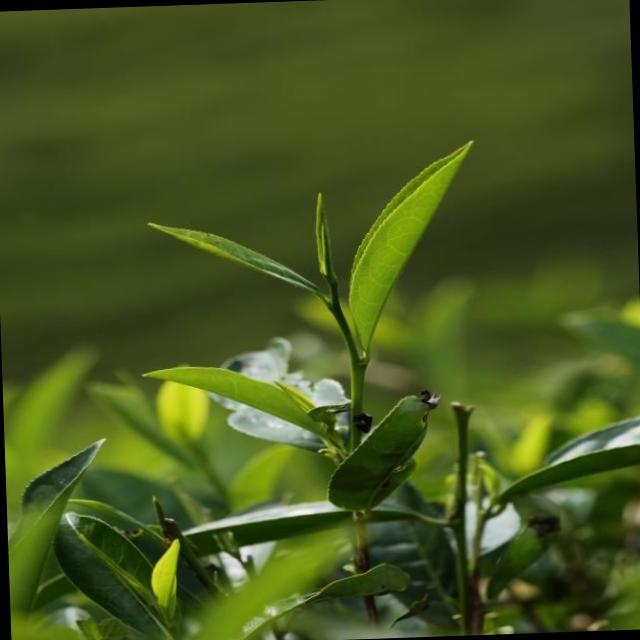Stem: (328, 303, 343, 319)
